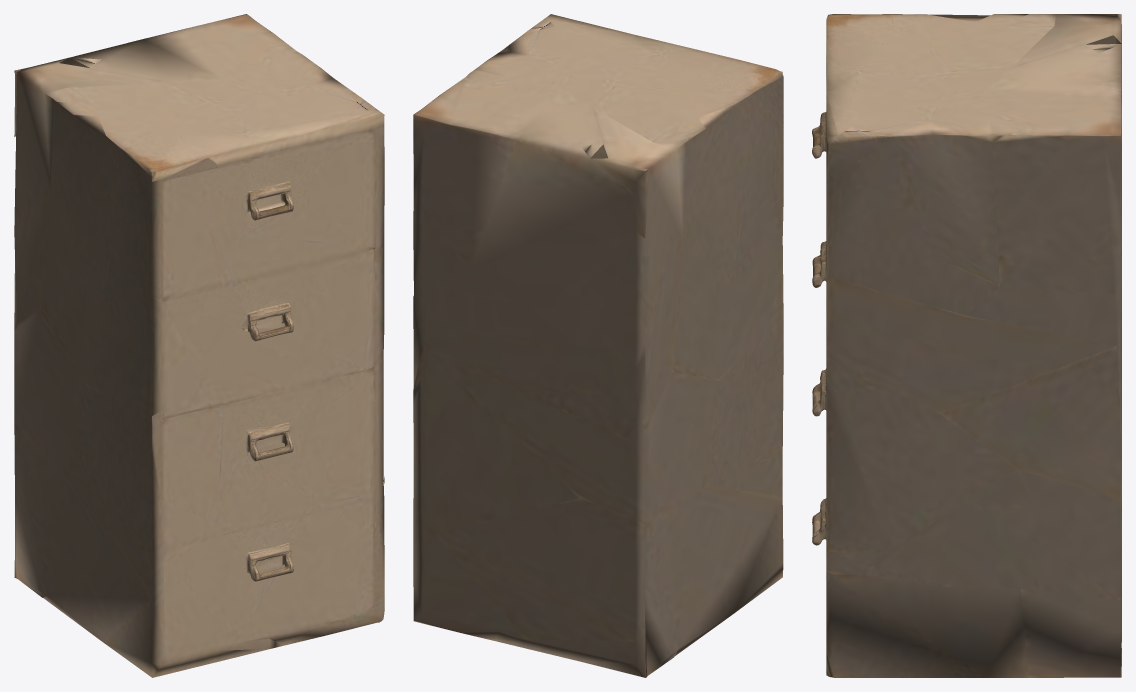
File: filing_cabinet.glb
3 renders of one model, left to right at view 1: azimuth 30°, elevation 25°; view 2: azimuth 150°, elevation 25°; view 3: azimuth 270°, elevation 25°, orthographic. The views are drawn at different scales.
Bounding box in the file's own units: 0.9138 × 1.9 × 0.9826.
Materials: 1 (1 with a texture image).
